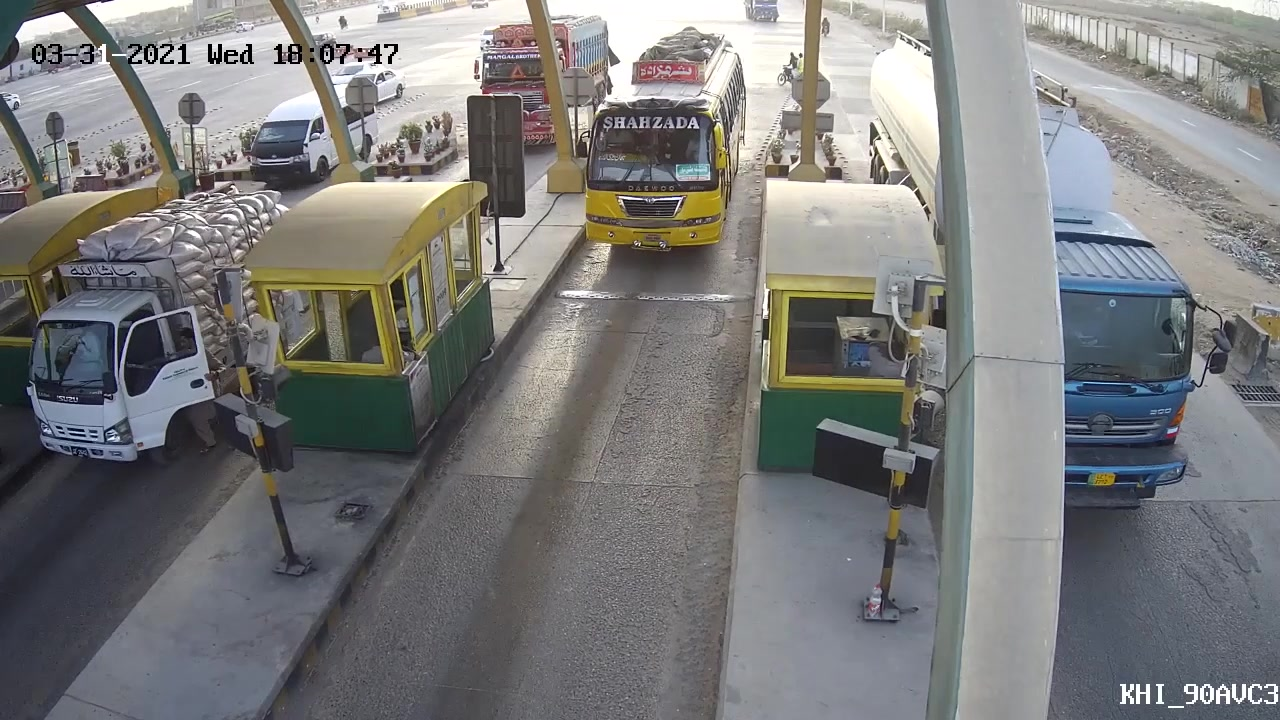F3: (570, 59, 737, 258)
